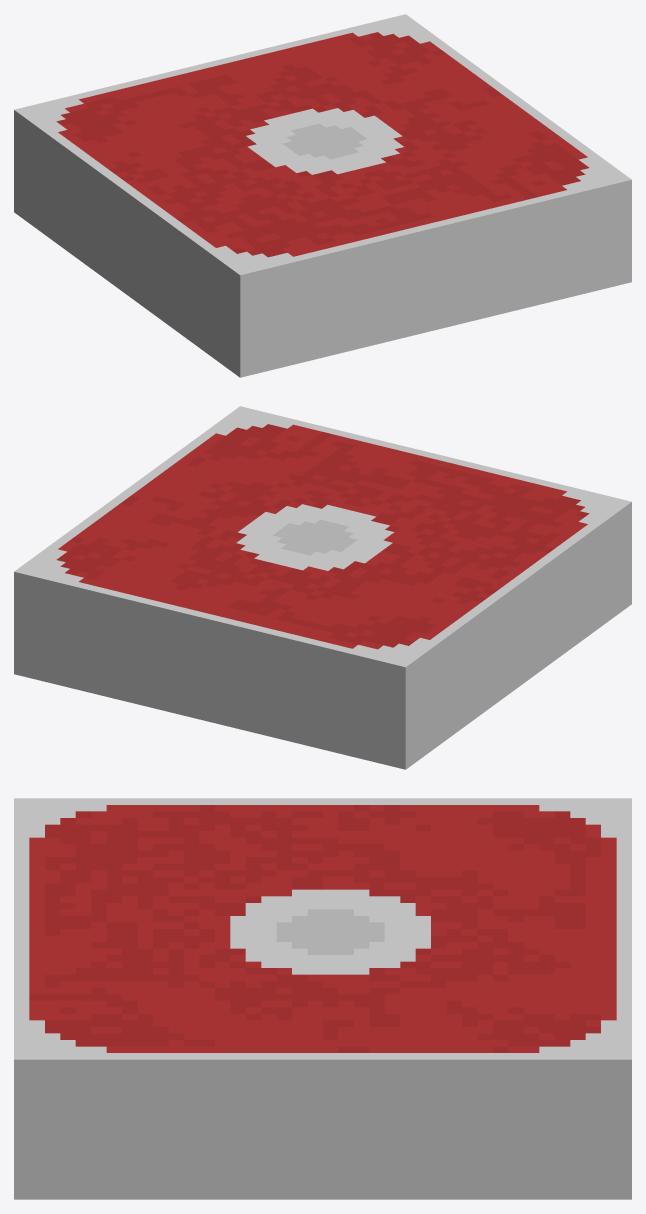
The model's file is meat.obj.
3 renders of one model, top to bottom at view 1: azimuth 30°, elevation 25°; view 2: azimuth 150°, elevation 25°; view 3: azimuth 270°, elevation 25°, orthographic. The views are drawn at different scales.
Parts seen in each view (by area): view 1: meat; view 2: meat; view 3: meat.
Part boxes in pixels (x1,y1,x2,y2): meat: (14,14,631,377); meat: (14,406,631,769); meat: (14,798,631,1199).
Bounding box in the file's own units: 40 × 10 × 40.
Materials: 1 (1 with a texture image).
